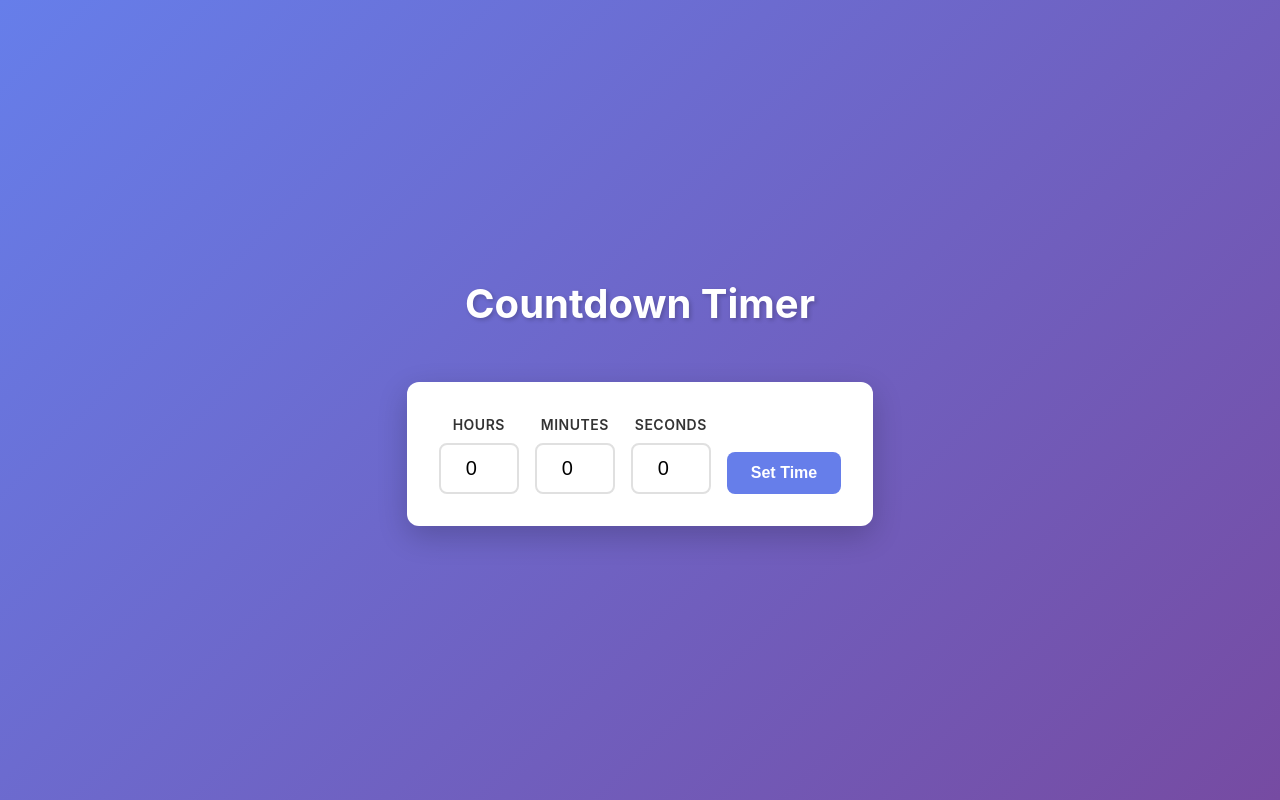
it: App › can set different times sequentially
# Set 5 minutes
Step 1. Type "5" into the number field labelled "Minutes" → (575, 468), box [535,443,615,494]
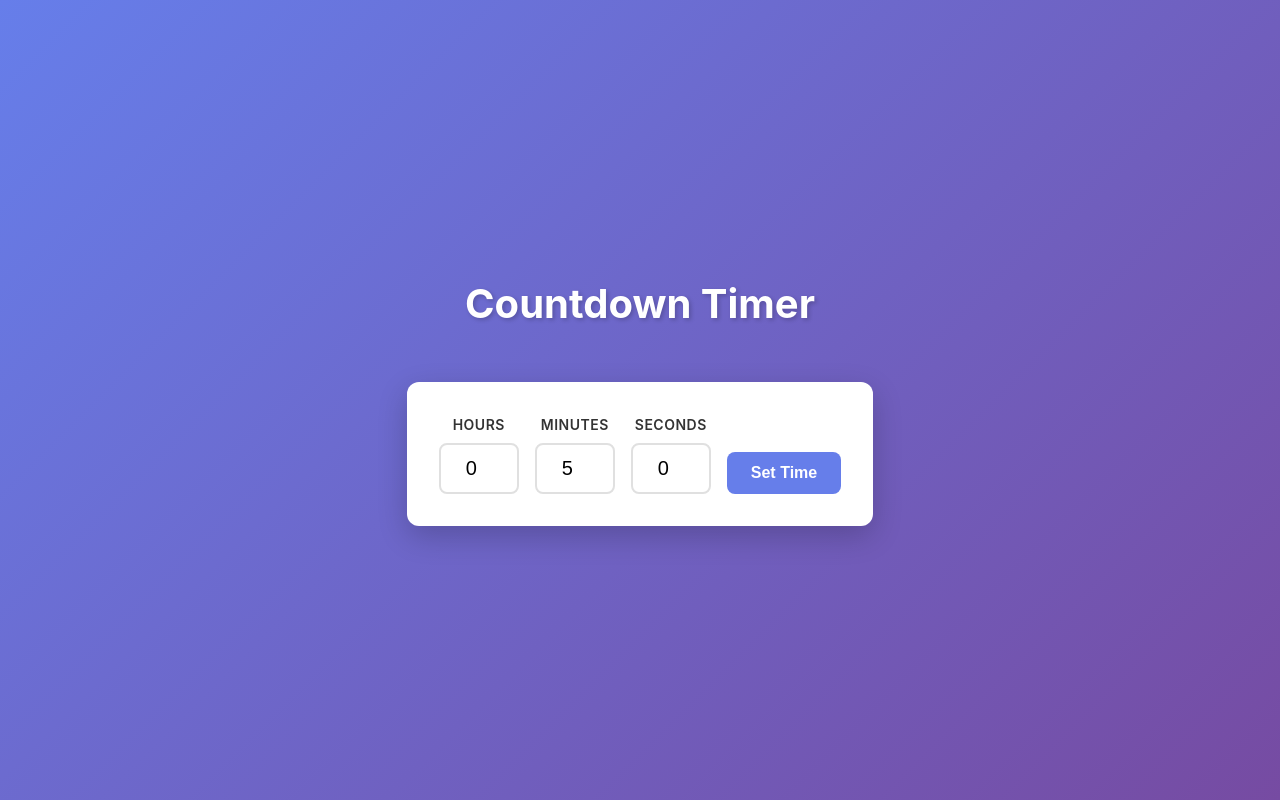
Step 2. Click the button "Set Time" → click(784, 473), box [727,452,841,494]
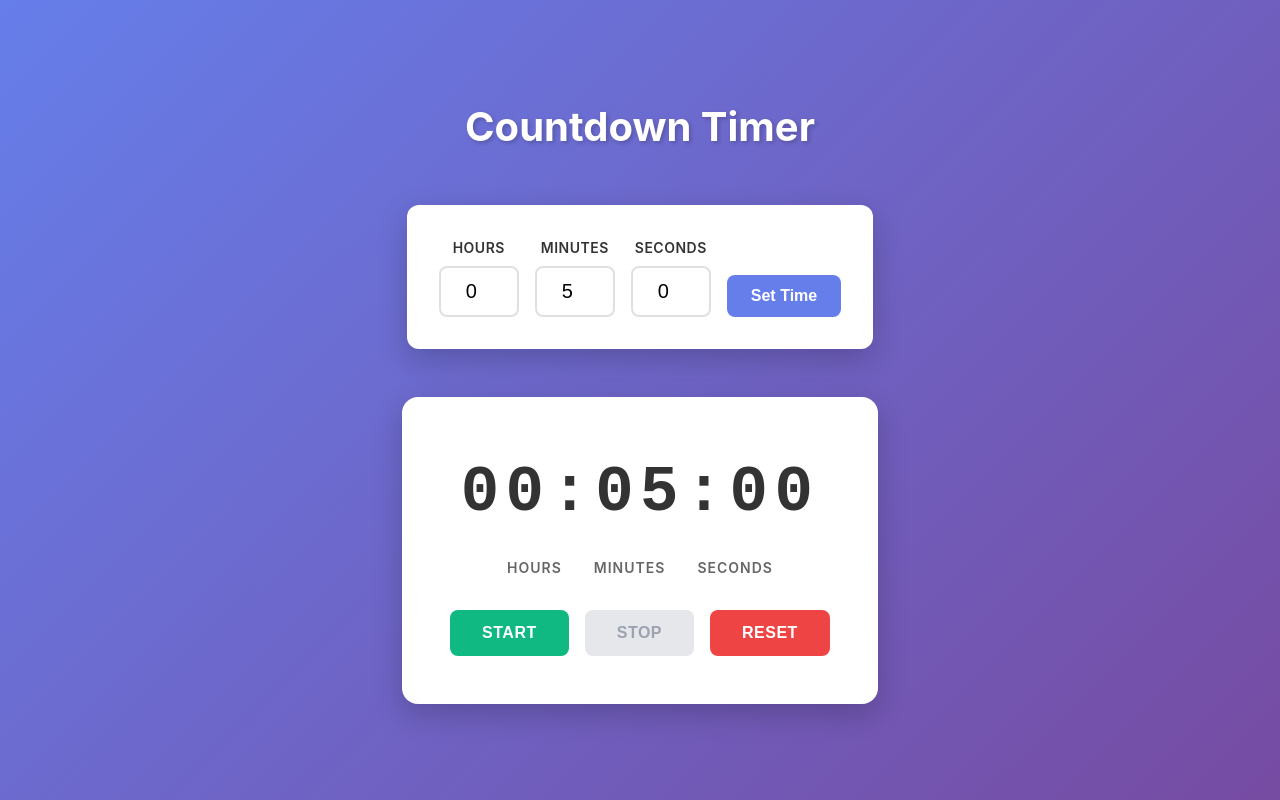
Check: the text "00:05:00" is shown, box [461,444,819,540]
# Set 10 minutes
Step 3. Replace the text in the number field labelled "Minutes" with "10" → (575, 291), box [535,266,615,316]
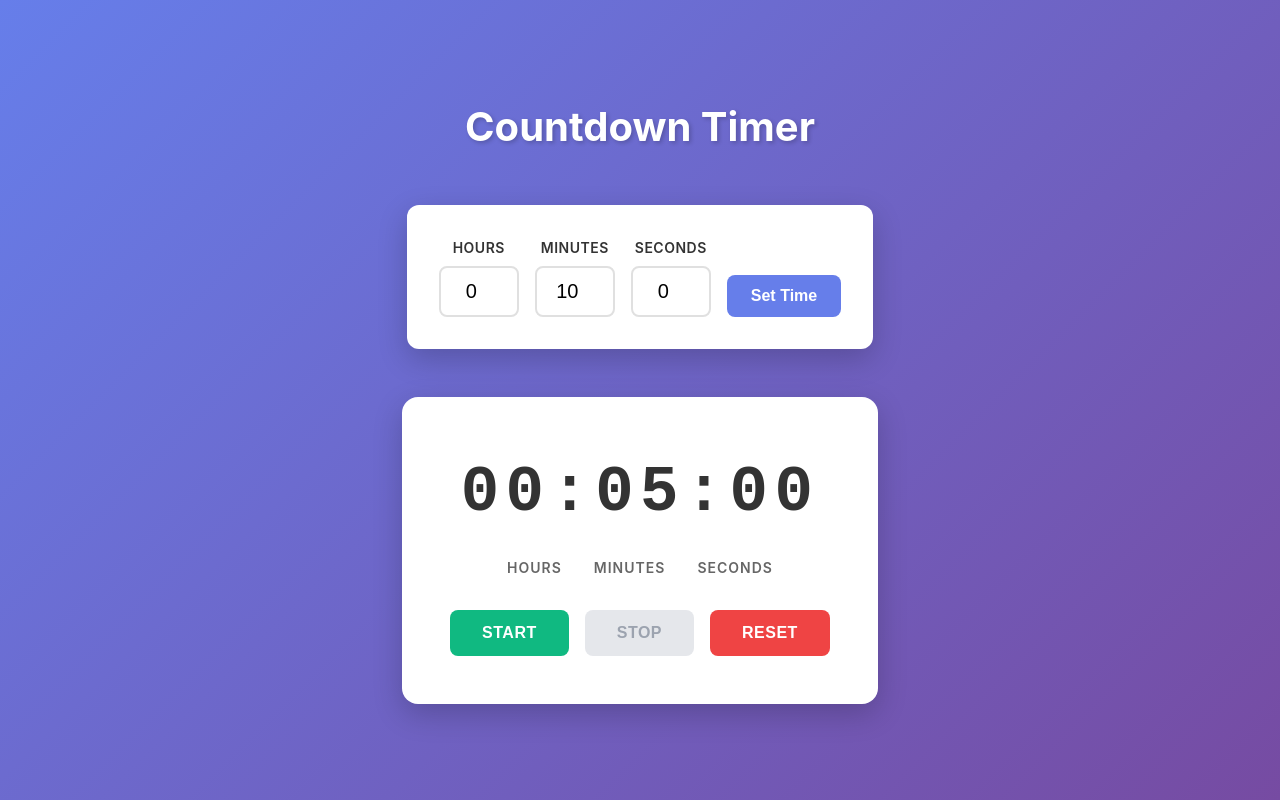
Step 4. Click the button "Set Time" → click(784, 296), box [727,274,841,316]
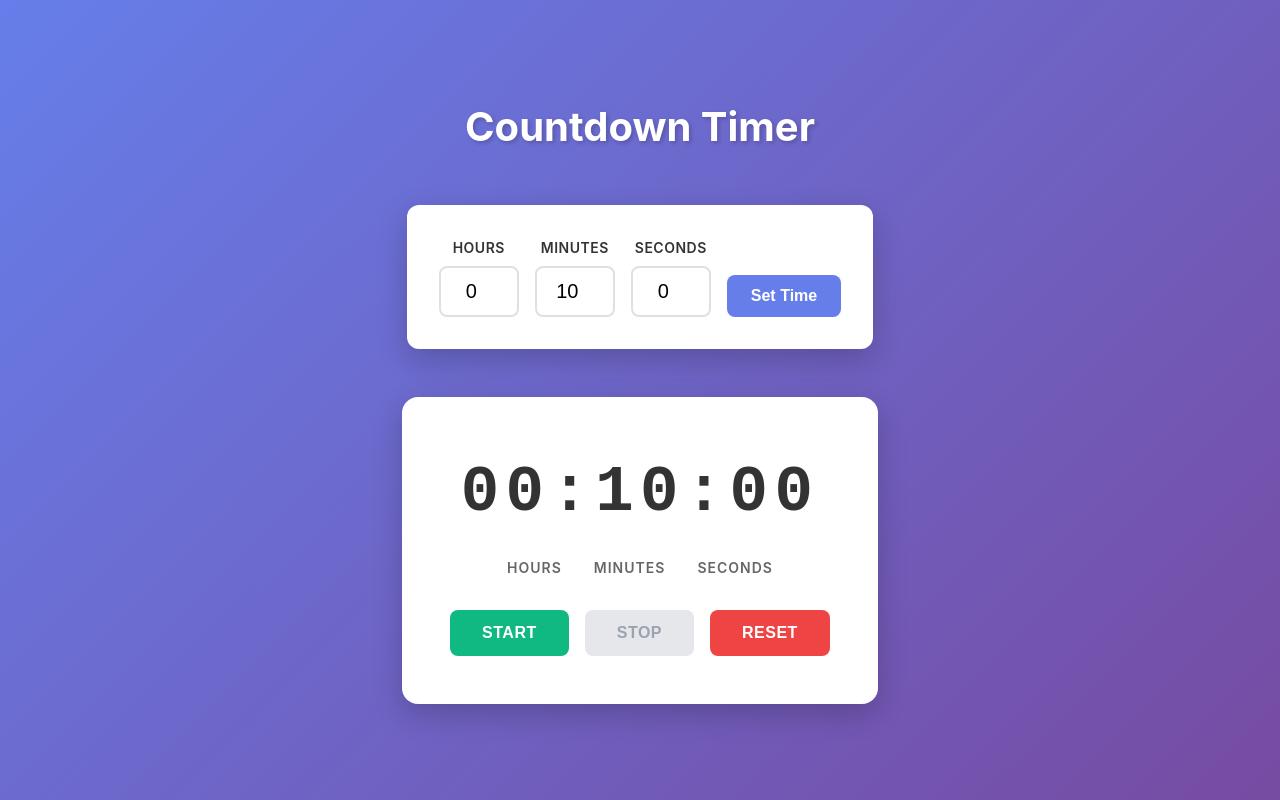
Check: the text "00:10:00" is shown, box [461,444,819,540]
